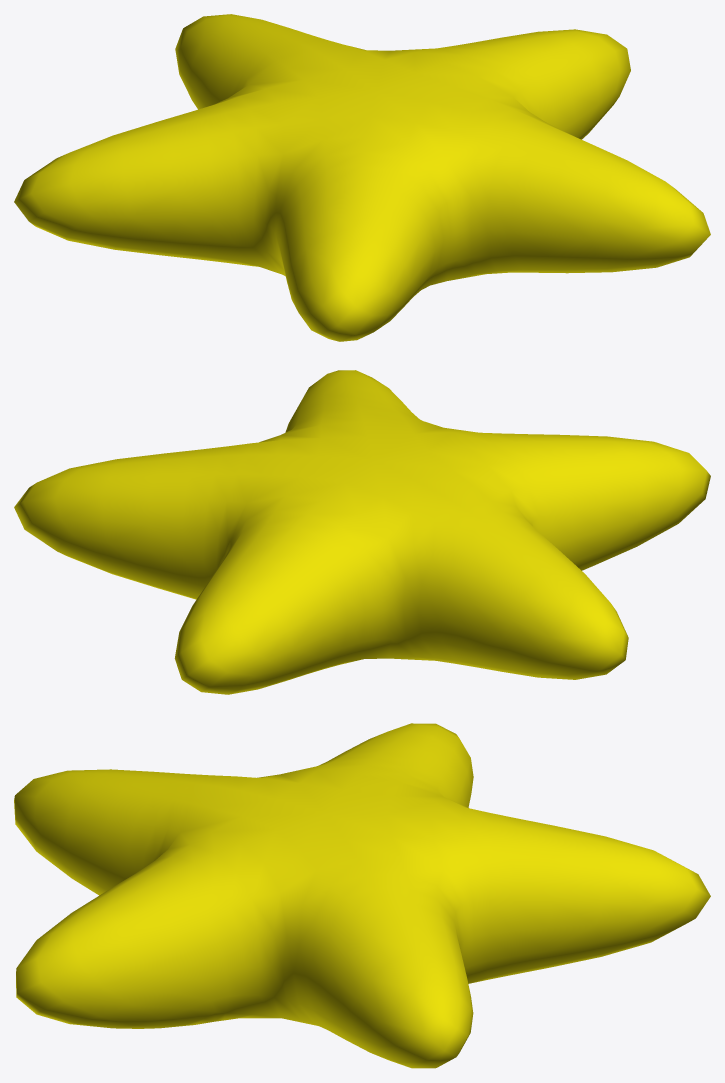
Rendered from YellowStar.fbx.
The picture shows the model from 3 angles, top to bottom: view 1: azimuth 30°, elevation 25°; view 2: azimuth 150°, elevation 25°; view 3: azimuth 270°, elevation 25°; orthographic projection. The views are drawn at different scales.
Visible parts, largest first — view 1: Cylinder; view 2: Cylinder; view 3: Cylinder.
Boxes of the visible parts, left/top/right/bottom form: Cylinder: left=14, top=14, right=710, bottom=341; Cylinder: left=14, top=370, right=710, bottom=694; Cylinder: left=14, top=723, right=710, bottom=1068.
Bounding box in the file's own units: 121 × 30.3 × 116.
